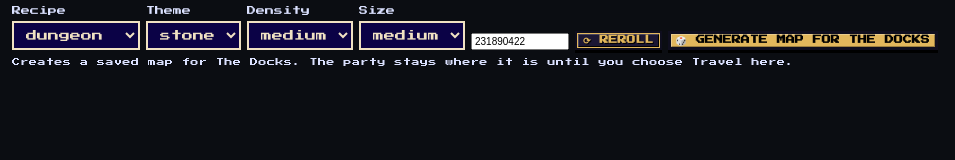
Test: AtlasGeneratePanel › reroll mints a different seed
This screenshot has width=955, height=160.
Replace the text in the field with test id "atlas-generate-seed" with "42" at (520, 41), box [471,32,569,50]
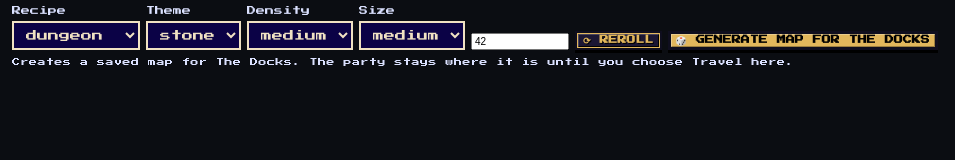
Click the button "⟳ Reroll" at (618, 40), box [575,30,662,50]
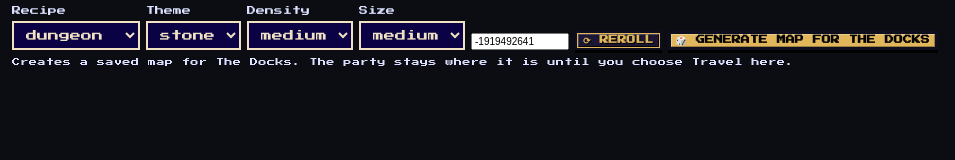
expect the field with test id "atlas-generate-seed" does not hold "42": met, box [471,32,569,50]
